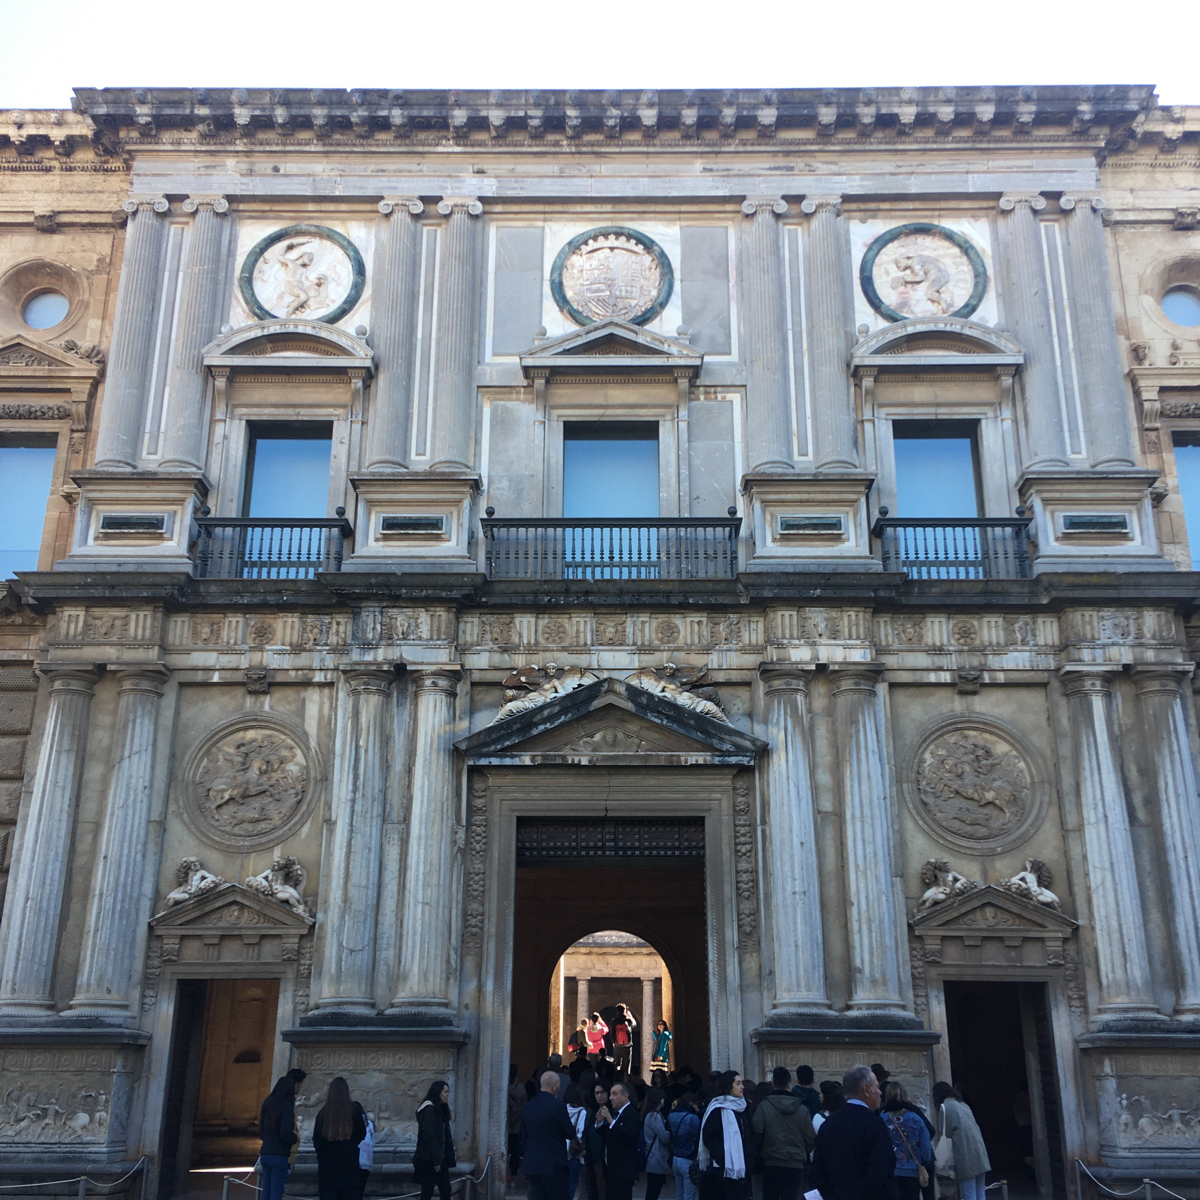fronton: (444, 674, 769, 775), (507, 318, 704, 375), (908, 881, 1076, 942), (141, 882, 309, 942)
fronton-curvo: (189, 320, 378, 375), (846, 321, 1027, 378)
ojo-de-buey: (1, 256, 87, 341)
vano-adintelado: (459, 773, 753, 1170), (919, 954, 1086, 1196), (134, 955, 295, 1186), (868, 395, 1012, 577), (210, 395, 346, 578), (544, 389, 684, 564)
